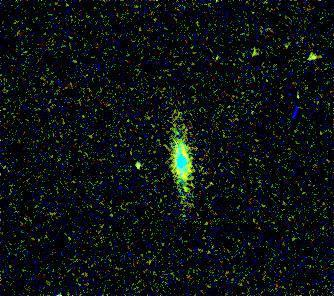star: (121, 150, 151, 180)
